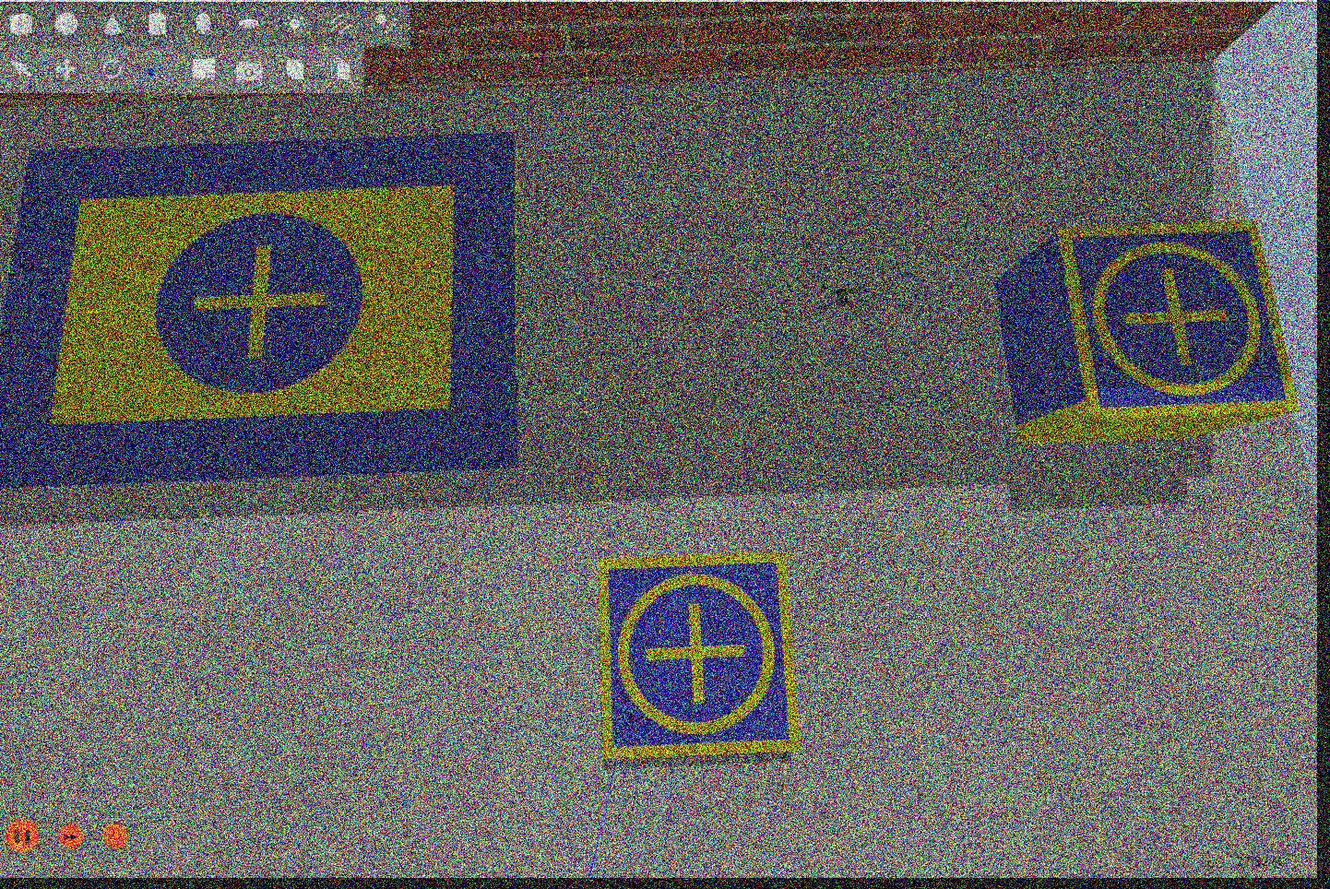large_base: (1, 130, 523, 475)
small_base: (1056, 222, 1300, 422), (600, 552, 799, 762)
